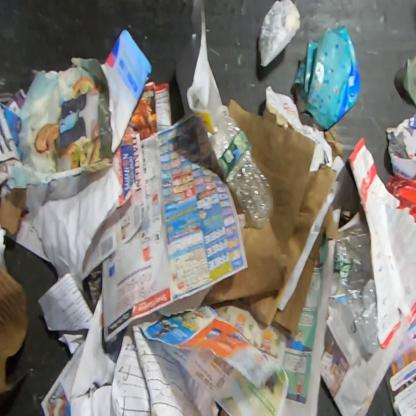cardboard: (293, 20, 362, 131), (100, 28, 152, 155), (385, 111, 415, 181), (0, 187, 28, 236)
rigid_plastic: (211, 104, 276, 230), (332, 220, 381, 356)
